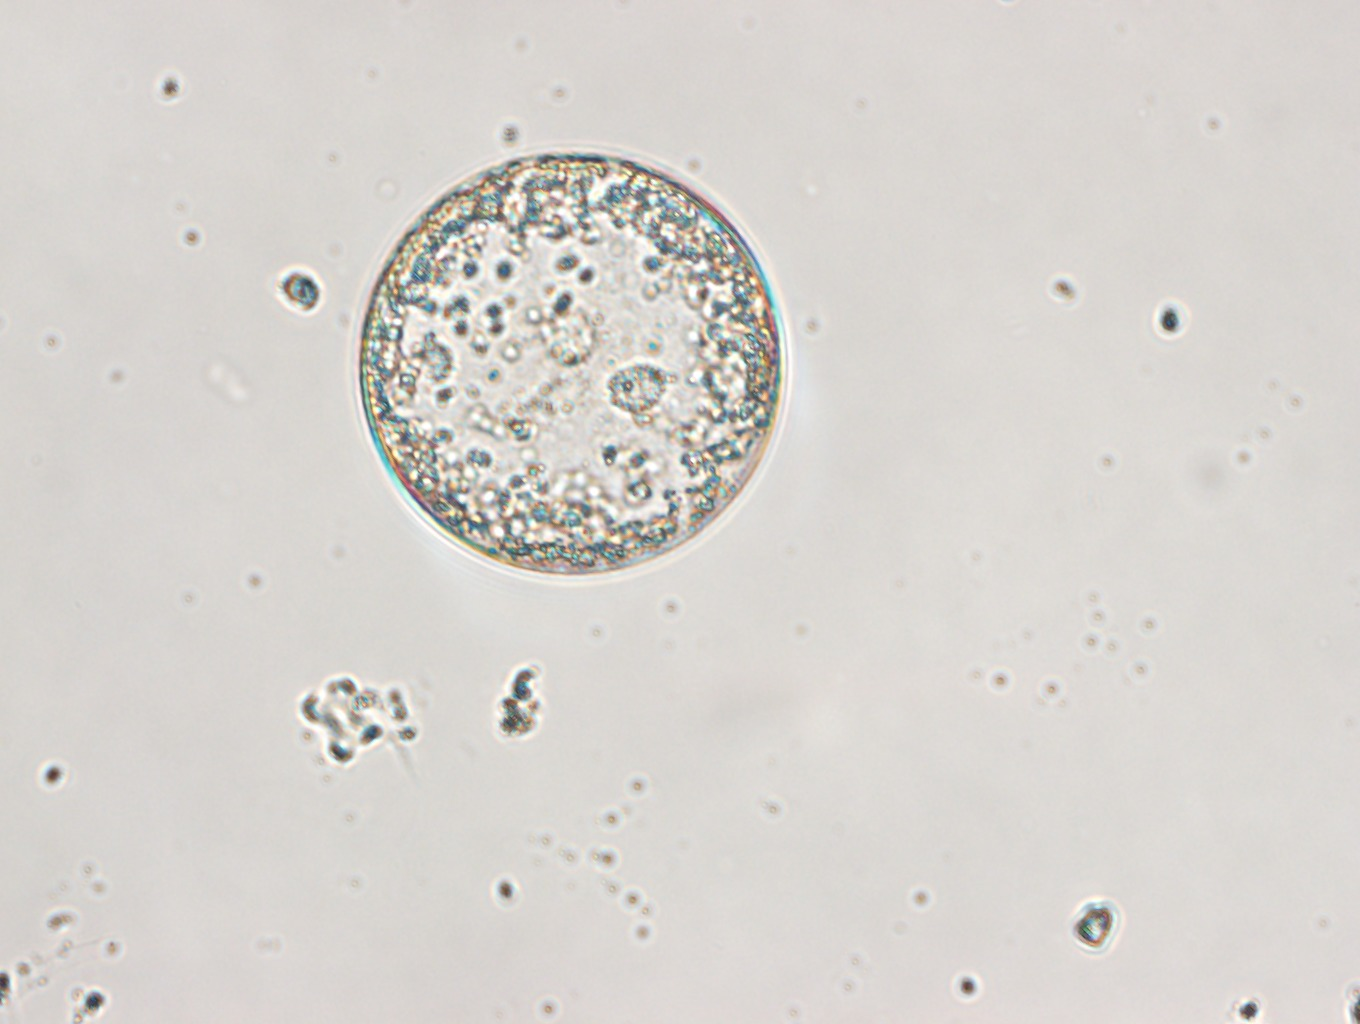coscinodiscus: (357, 144, 785, 577)
